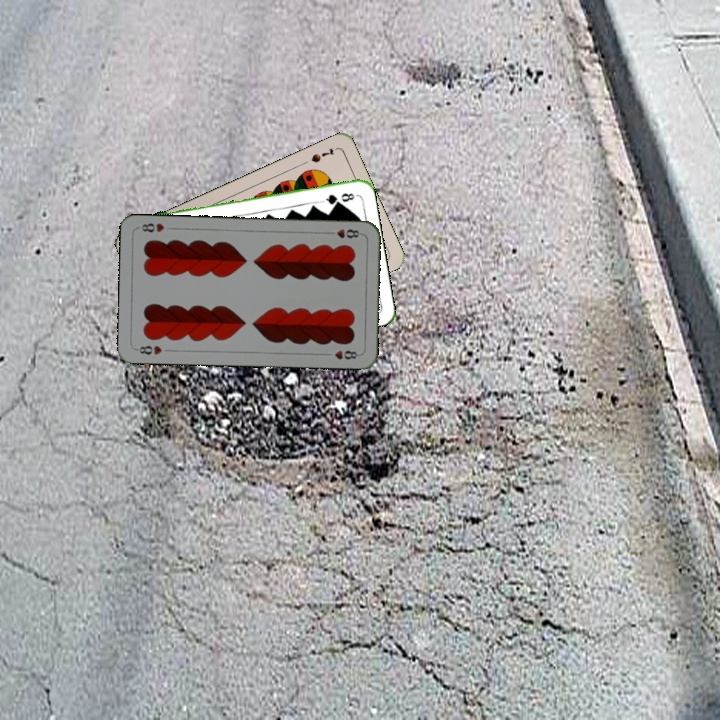G8: (318, 189, 357, 207)
H8: (324, 225, 364, 241), (132, 341, 164, 357)
S7: (307, 144, 336, 165)
